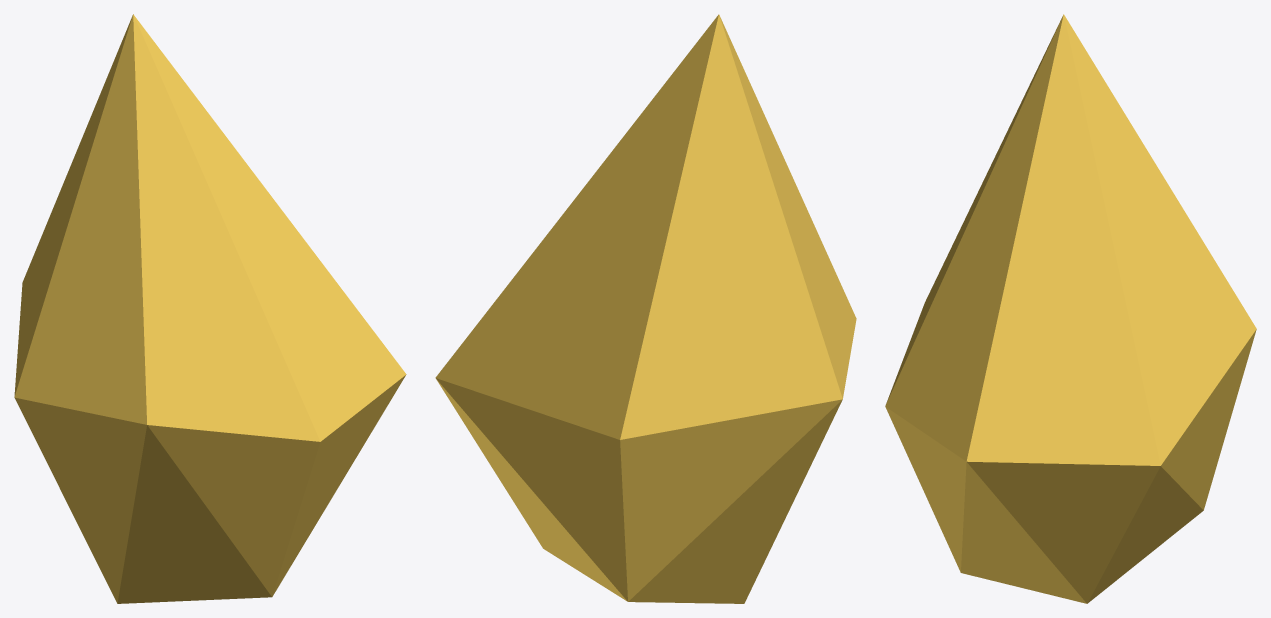
File: Fire.fbx
The picture shows the model from 3 angles, left to right: view 1: azimuth 30°, elevation 25°; view 2: azimuth 150°, elevation 25°; view 3: azimuth 270°, elevation 25°; orthographic projection. The views are drawn at different scales.
Parts seen in each view (by area): view 1: FirePart; view 2: FirePart; view 3: FirePart.
Boxes of the visible parts, bbox=[...] form: FirePart: bbox=[14, 14, 406, 603]; FirePart: bbox=[435, 14, 856, 603]; FirePart: bbox=[885, 14, 1256, 603].
Size of the model in its own units: 38.37 by 61.18 by 38.27.
